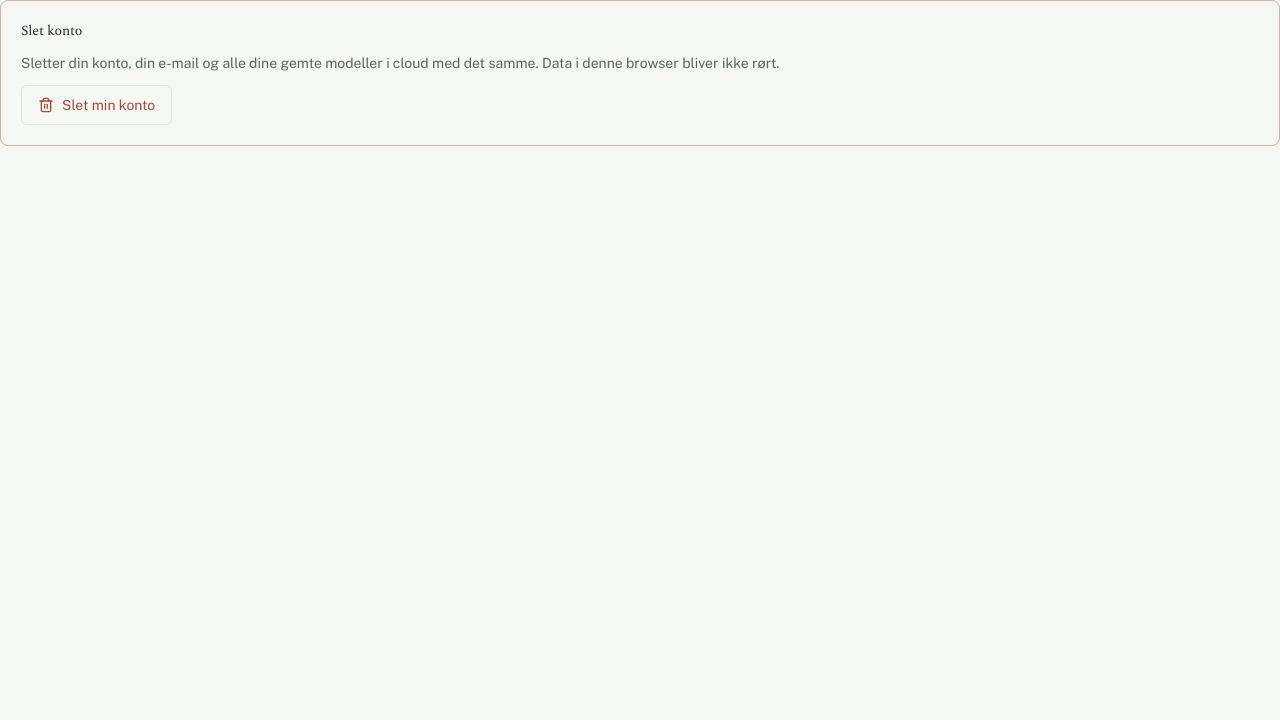
DeleteAccountSection › only enables deletion once the user's own email is typed
Click the button "Slet min konto".
click(97, 105)  # box [21, 85, 172, 125]
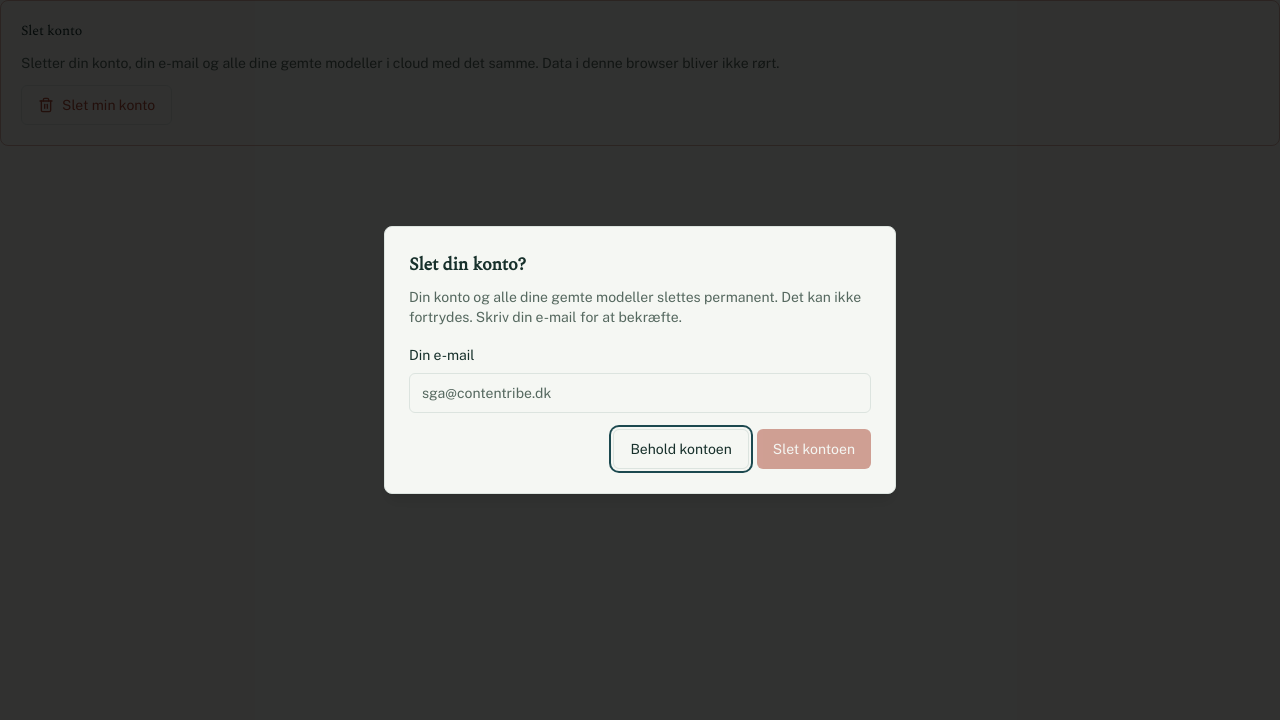
Expected: the button "Slet kontoen" is disabled, [757, 429, 871, 469]
Type "someone@else.dk" into the field labelled "Din e-mail".
click(640, 393); type("someone@else.dk")  # box [409, 373, 871, 413]
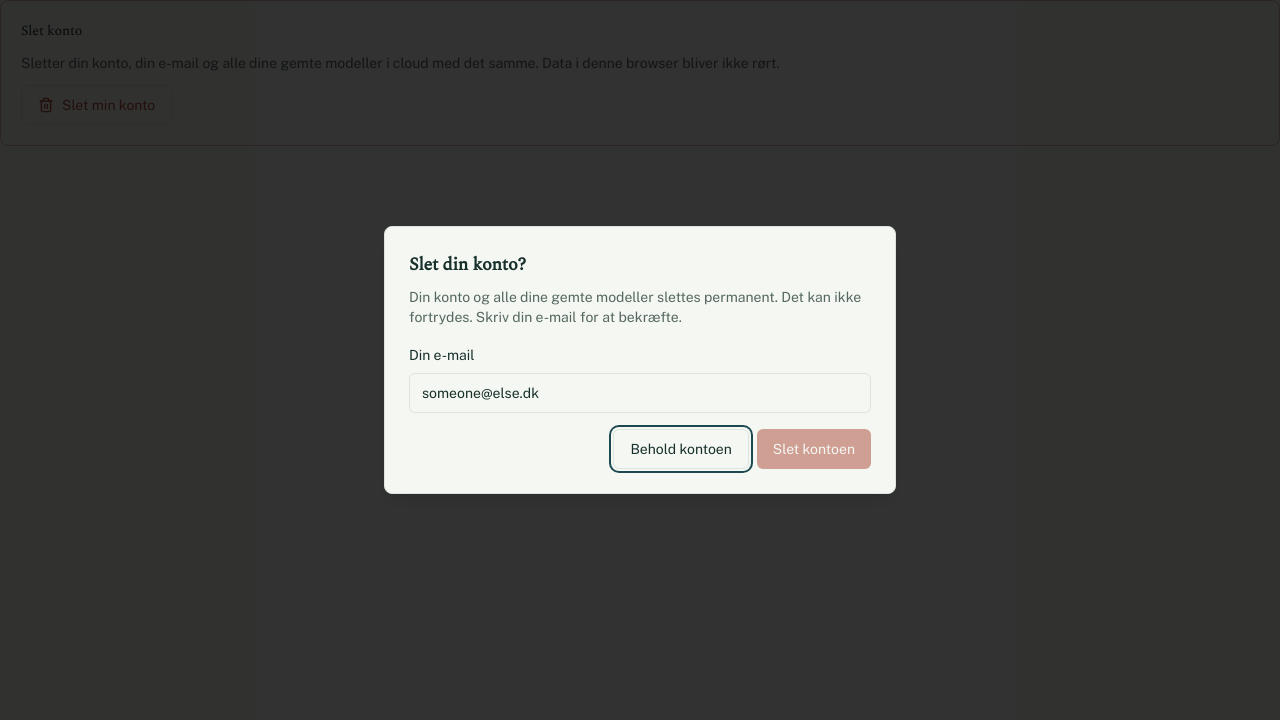
Expected: the button "Slet kontoen" is disabled, [757, 429, 871, 469]
Replace the text in the field labelled "Din e-mail" with "  SGA@contentribe.dk " at (640, 393), box [409, 373, 871, 413]
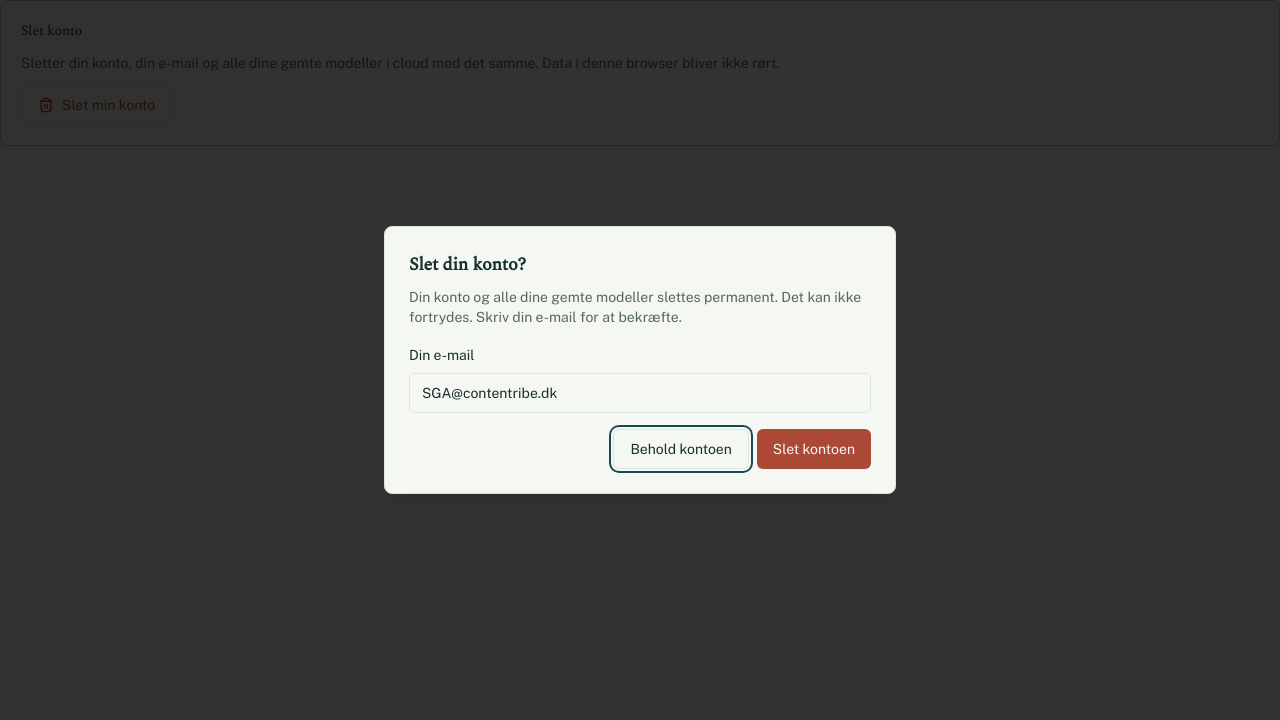
Expected: the button "Slet kontoen" is enabled, [757, 429, 871, 469]
